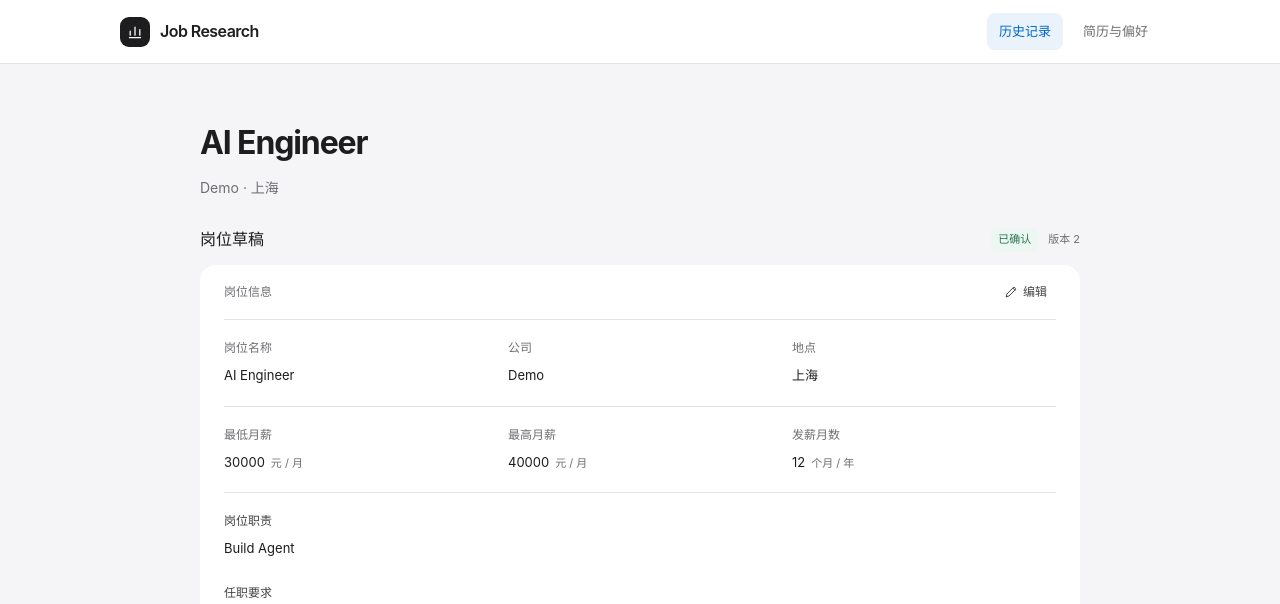
business pages › preserves input when confirm fails and allows retry
The width and height of the screenshot is (1280, 604).
Step 1. Click the button with aria-label "编辑岗位草稿" → coordinates (1026, 292), box [995,278,1056,306]
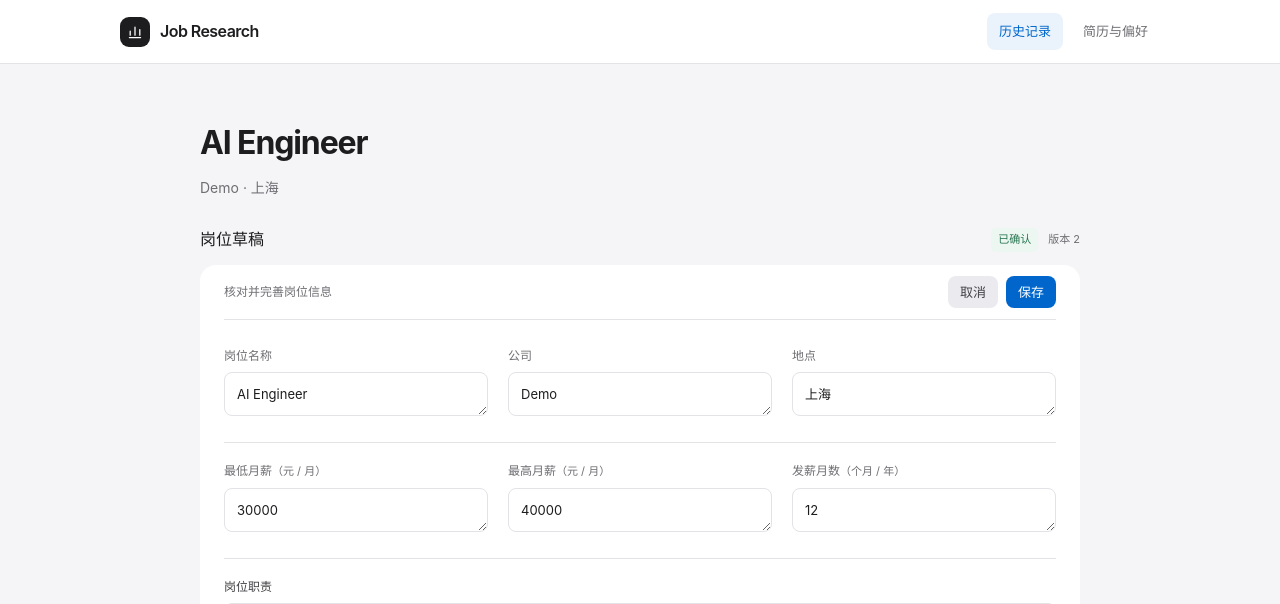
Step 2. Replace the text in the text box labelled "公司" with "Changed" → coordinates (640, 394), box [508,372,772,416]
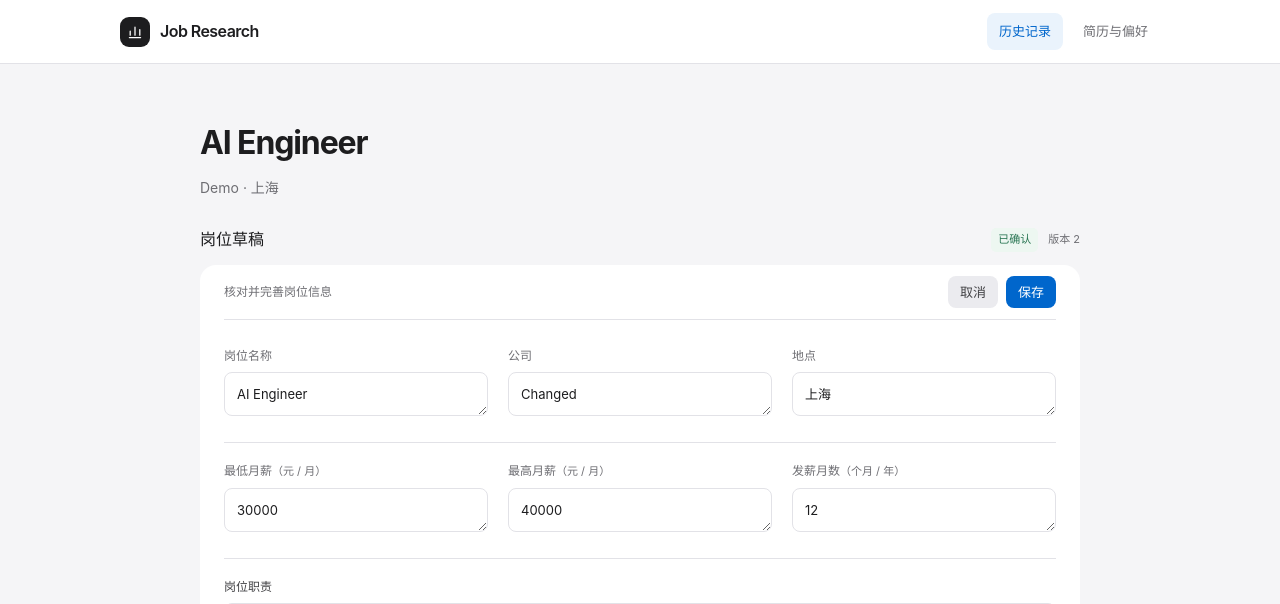
Step 3. Click the button "保存" → coordinates (1031, 292), box [1006,276,1056,308]
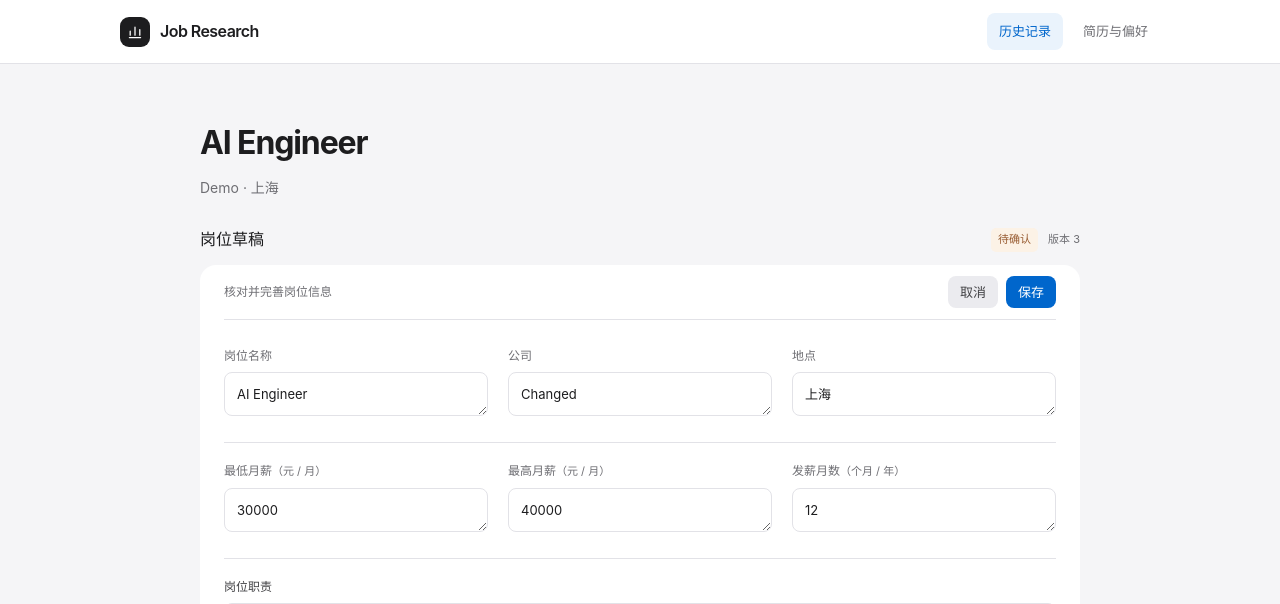
Step 4. Click the button "保存" → coordinates (1031, 292), box [1006,276,1056,308]
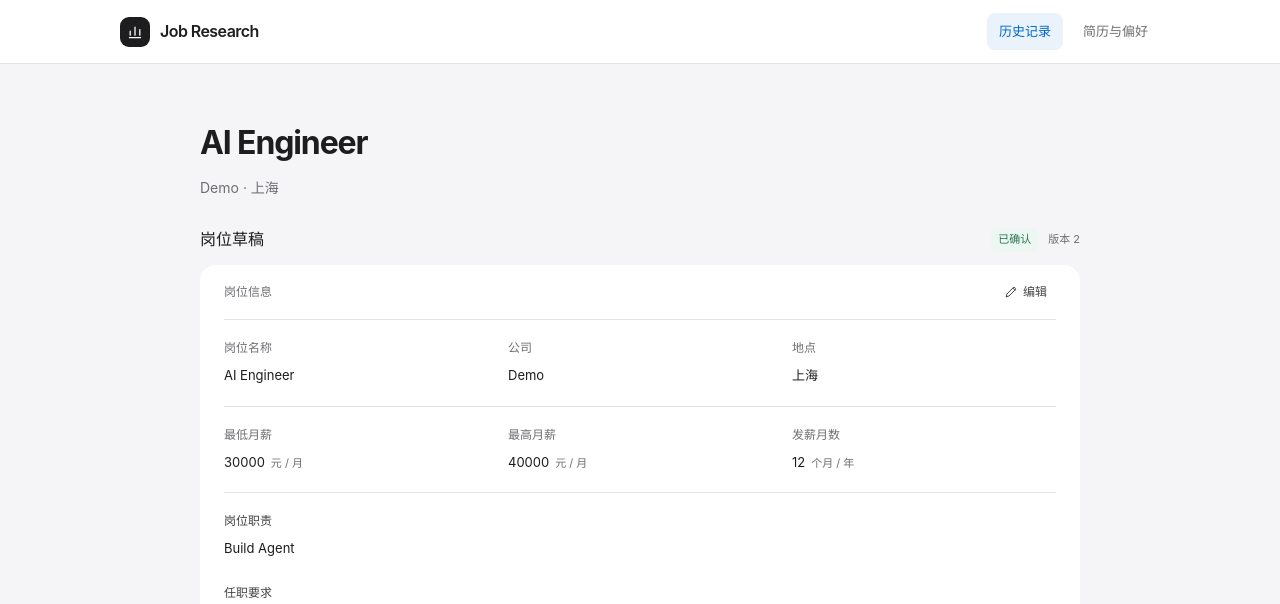
Expected: the button with aria-label "编辑岗位草稿" is shown, [995,278,1056,306]
